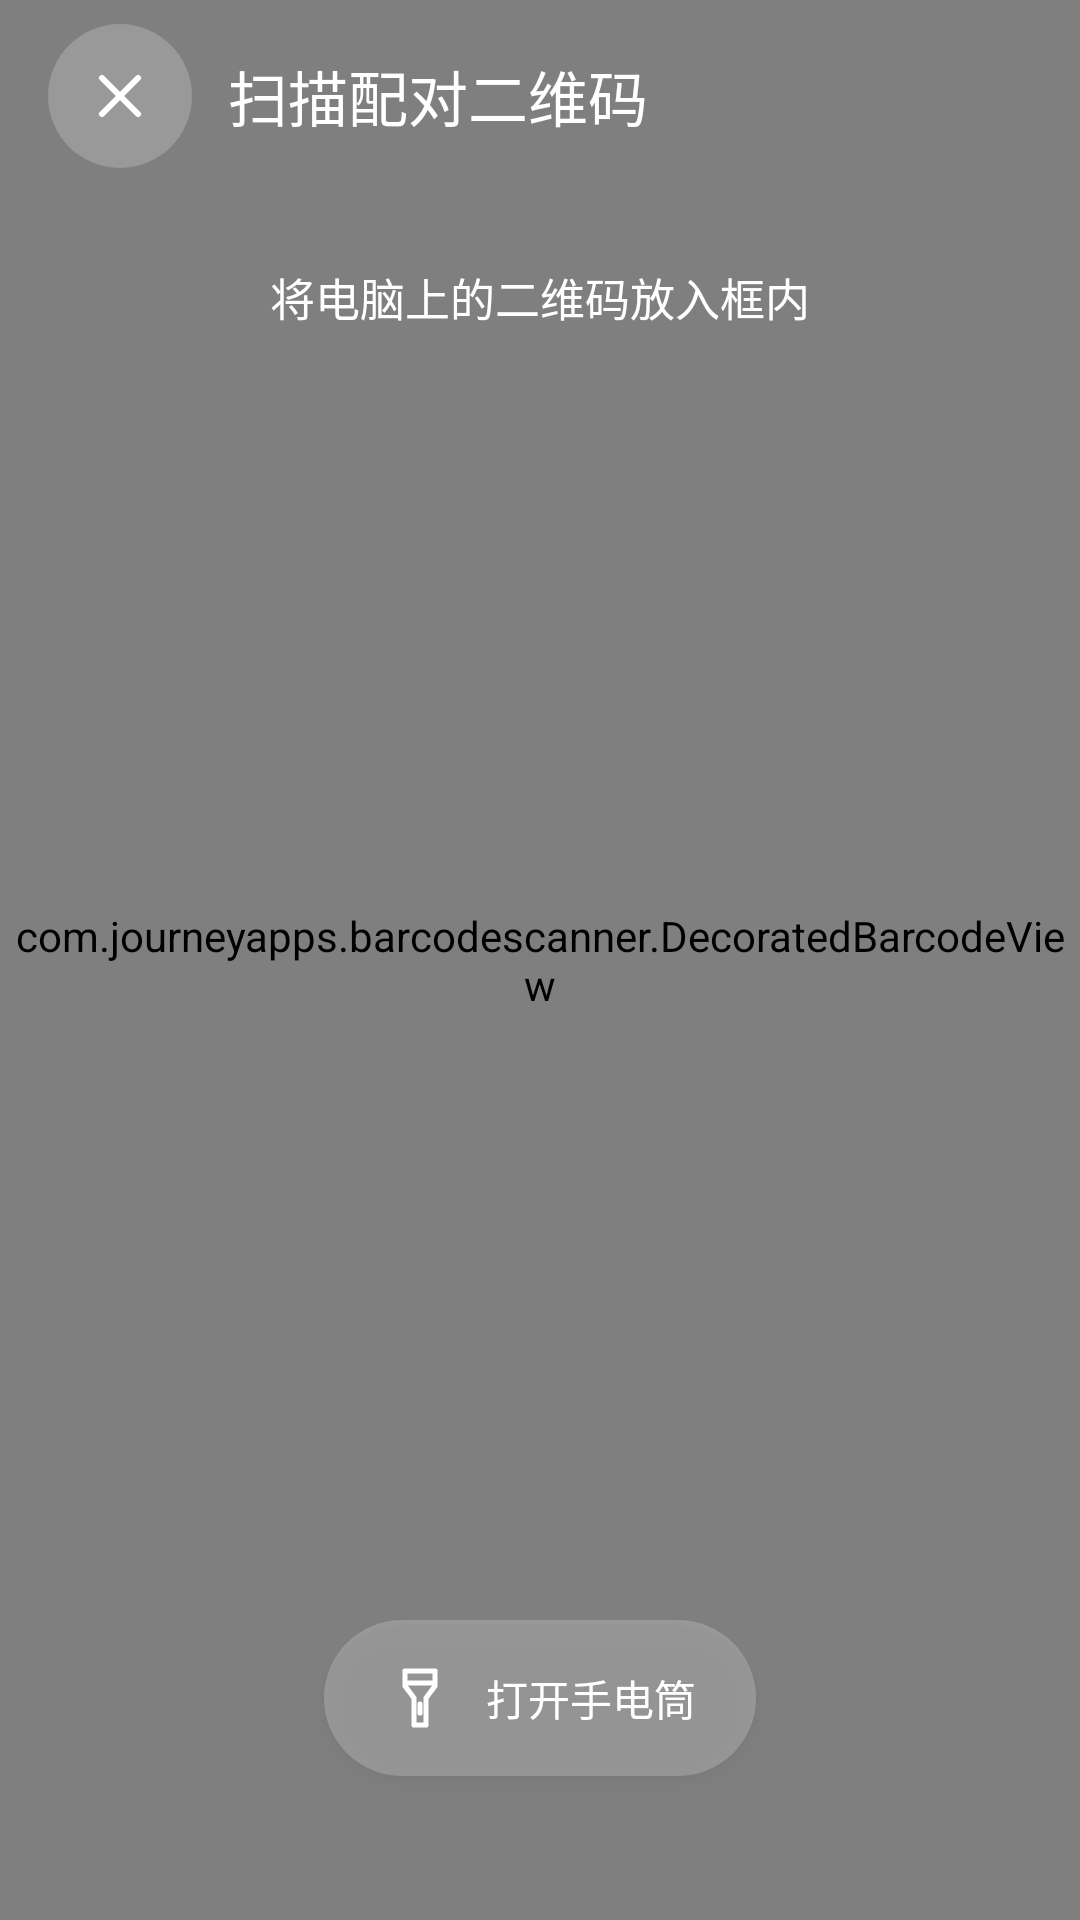

Icon bounding boxes for this 1080*1920 phone screenshot, format bbox(x1, y1, x2, y2):
关闭扫码: bbox(49, 24, 191, 168)
